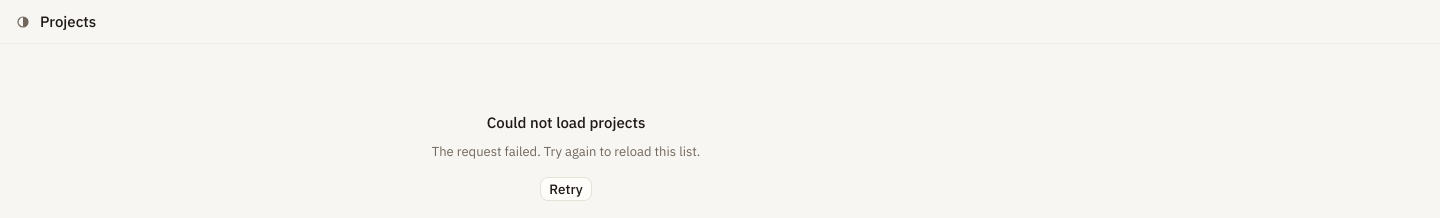
Test case: retryable list load errors › retries the Projects team lookup before loading the project list
Later steps or results of the test are not shown.
Expected: the heading "Could not load projects" is shown, [487,112,645,134]
What coordinates should you click on to do the following:
click the button "Retry"
I would click on:
 (566, 189)
Its box is [540,177,592,201].
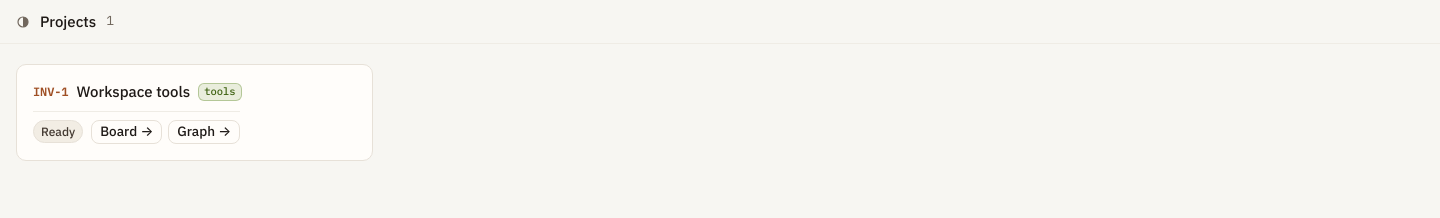
Now the button "INV-1 Workspace tools tools Ready Board → Graph →" is shown, box [16,64,373,161]
